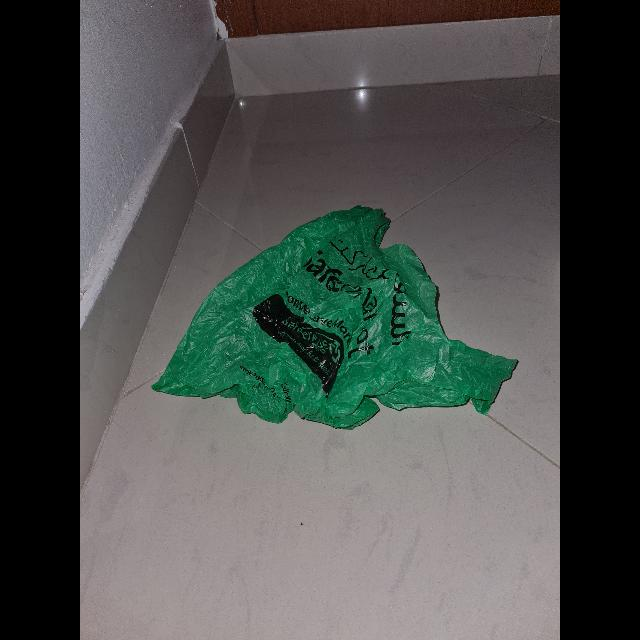plastic_bag: (151, 210, 517, 432)
